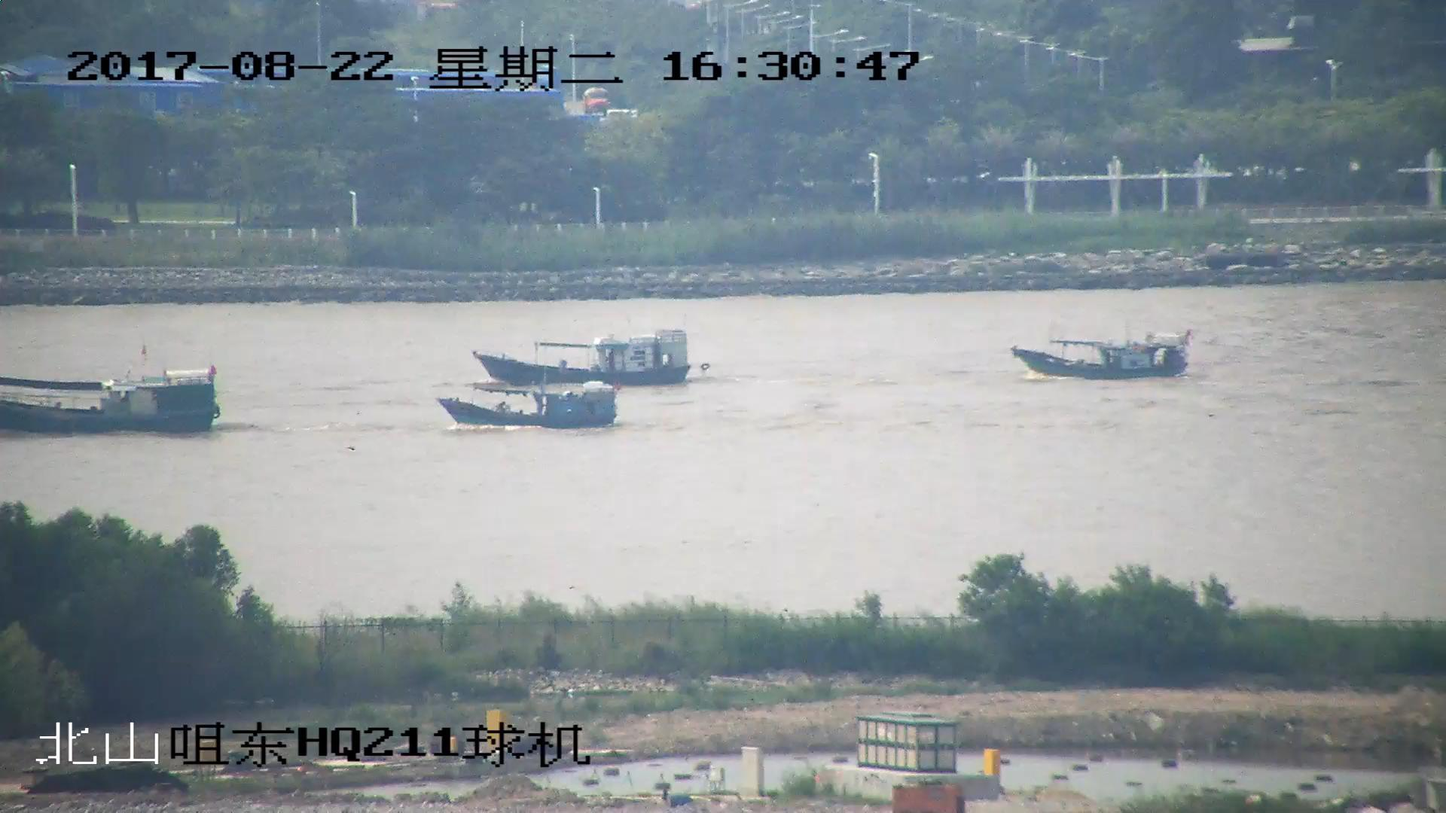fishing boat: (0, 350, 223, 434), (476, 327, 691, 385), (1016, 331, 1191, 379), (438, 379, 615, 426)
